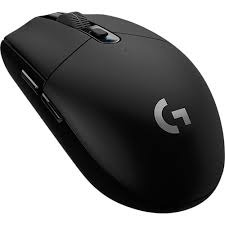mouse: (5, 9, 224, 214)
